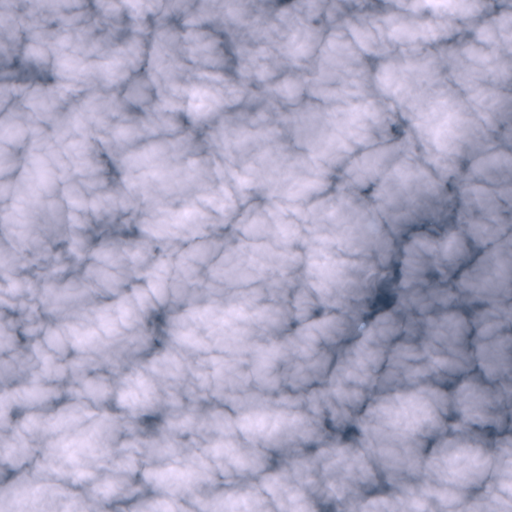Iceberg: (358, 323, 365, 331)
